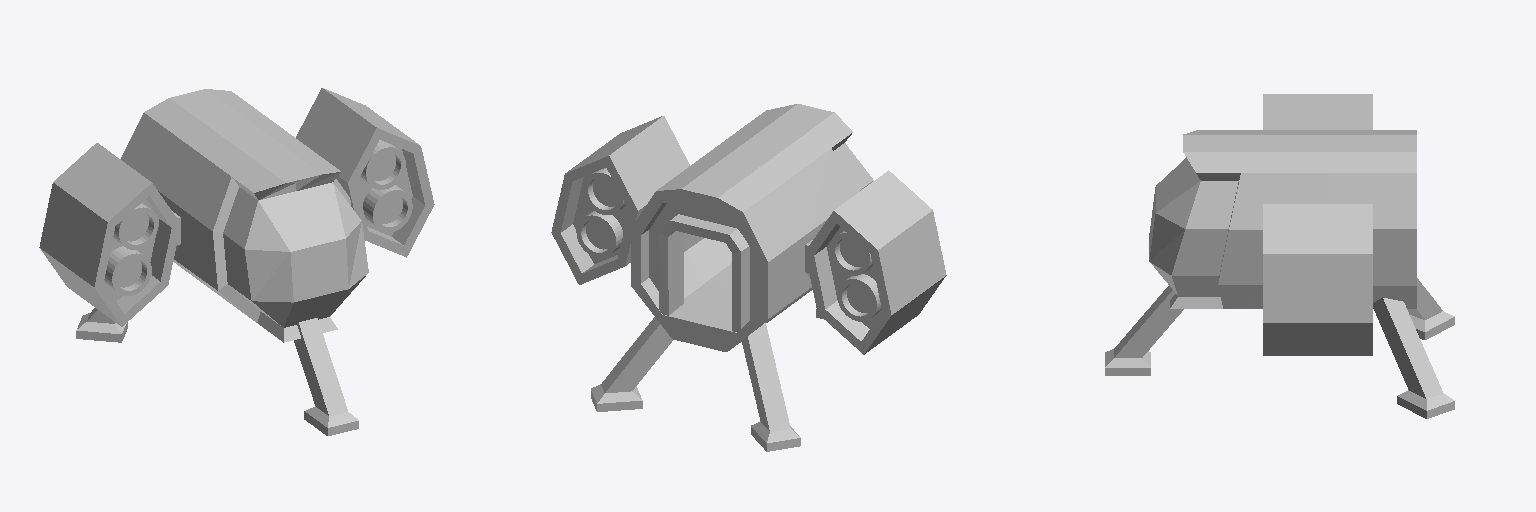
File: ship.obj
3 views of the same model, side by side, from view 1: azimuth 30°, elevation 25°; view 2: azimuth 150°, elevation 25°; view 3: azimuth 270°, elevation 25° (orthographic).
Parts seen in each view (by area): view 1: Cube_Cube.006, Cube.002_Cube.008, Cube.003_Cube.012, Cube.005_Cube.014; view 2: Cube_Cube.006, Cube.002_Cube.008, Cube.001_Cube.007, Cube.005_Cube.014, Cube.004_Cube.013; view 3: Cube_Cube.006, Cube.002_Cube.008, Cube.004_Cube.013, Cube.003_Cube.012, Cube.005_Cube.014.
Part boxes in pixels (x1,y1,x2,y2): Cube_Cube.006: (121, 89, 368, 342); Cube.002_Cube.008: (39, 88, 434, 326); Cube.003_Cube.012: (294, 318, 358, 435); Cube.005_Cube.014: (76, 308, 127, 342); Cube_Cube.006: (631, 104, 873, 351); Cube.002_Cube.008: (551, 116, 946, 354); Cube.001_Cube.007: (659, 214, 749, 332); Cube.005_Cube.014: (742, 323, 800, 451); Cube.004_Cube.013: (591, 317, 672, 411); Cube_Cube.006: (1149, 130, 1416, 308); Cube.002_Cube.008: (1263, 94, 1372, 355); Cube.004_Cube.013: (1373, 298, 1454, 418); Cube.003_Cube.012: (1105, 286, 1183, 375); Cube.005_Cube.014: (1407, 278, 1454, 339).
Bounding box in the file's own units: 5.8 × 3.67 × 5.17.